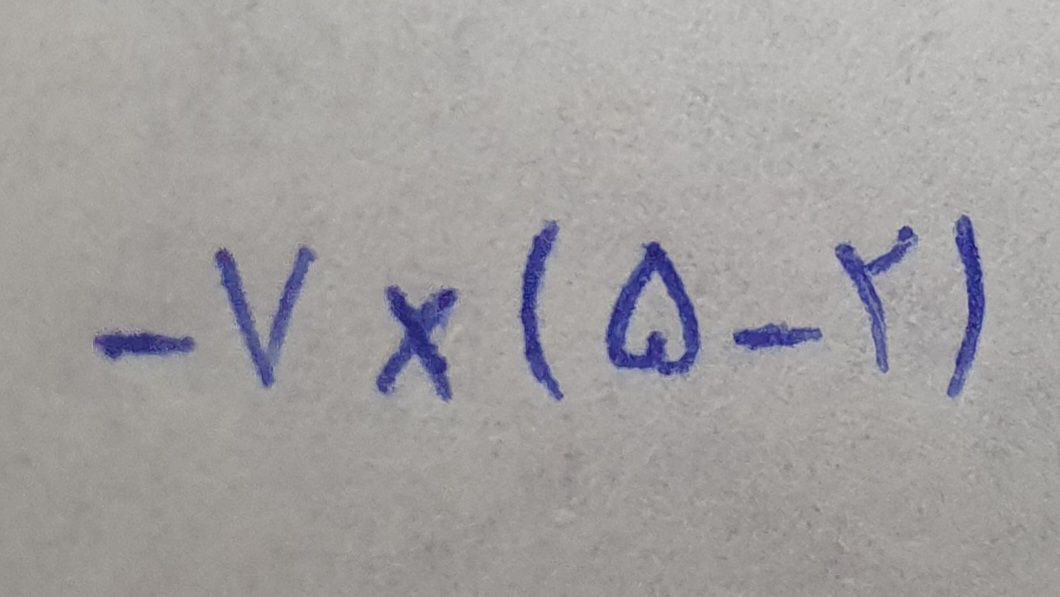character: (214, 246, 320, 391), (835, 225, 922, 375), (606, 240, 700, 377), (374, 284, 459, 404), (521, 218, 569, 402), (946, 214, 988, 402), (91, 330, 195, 360), (731, 323, 822, 350)
